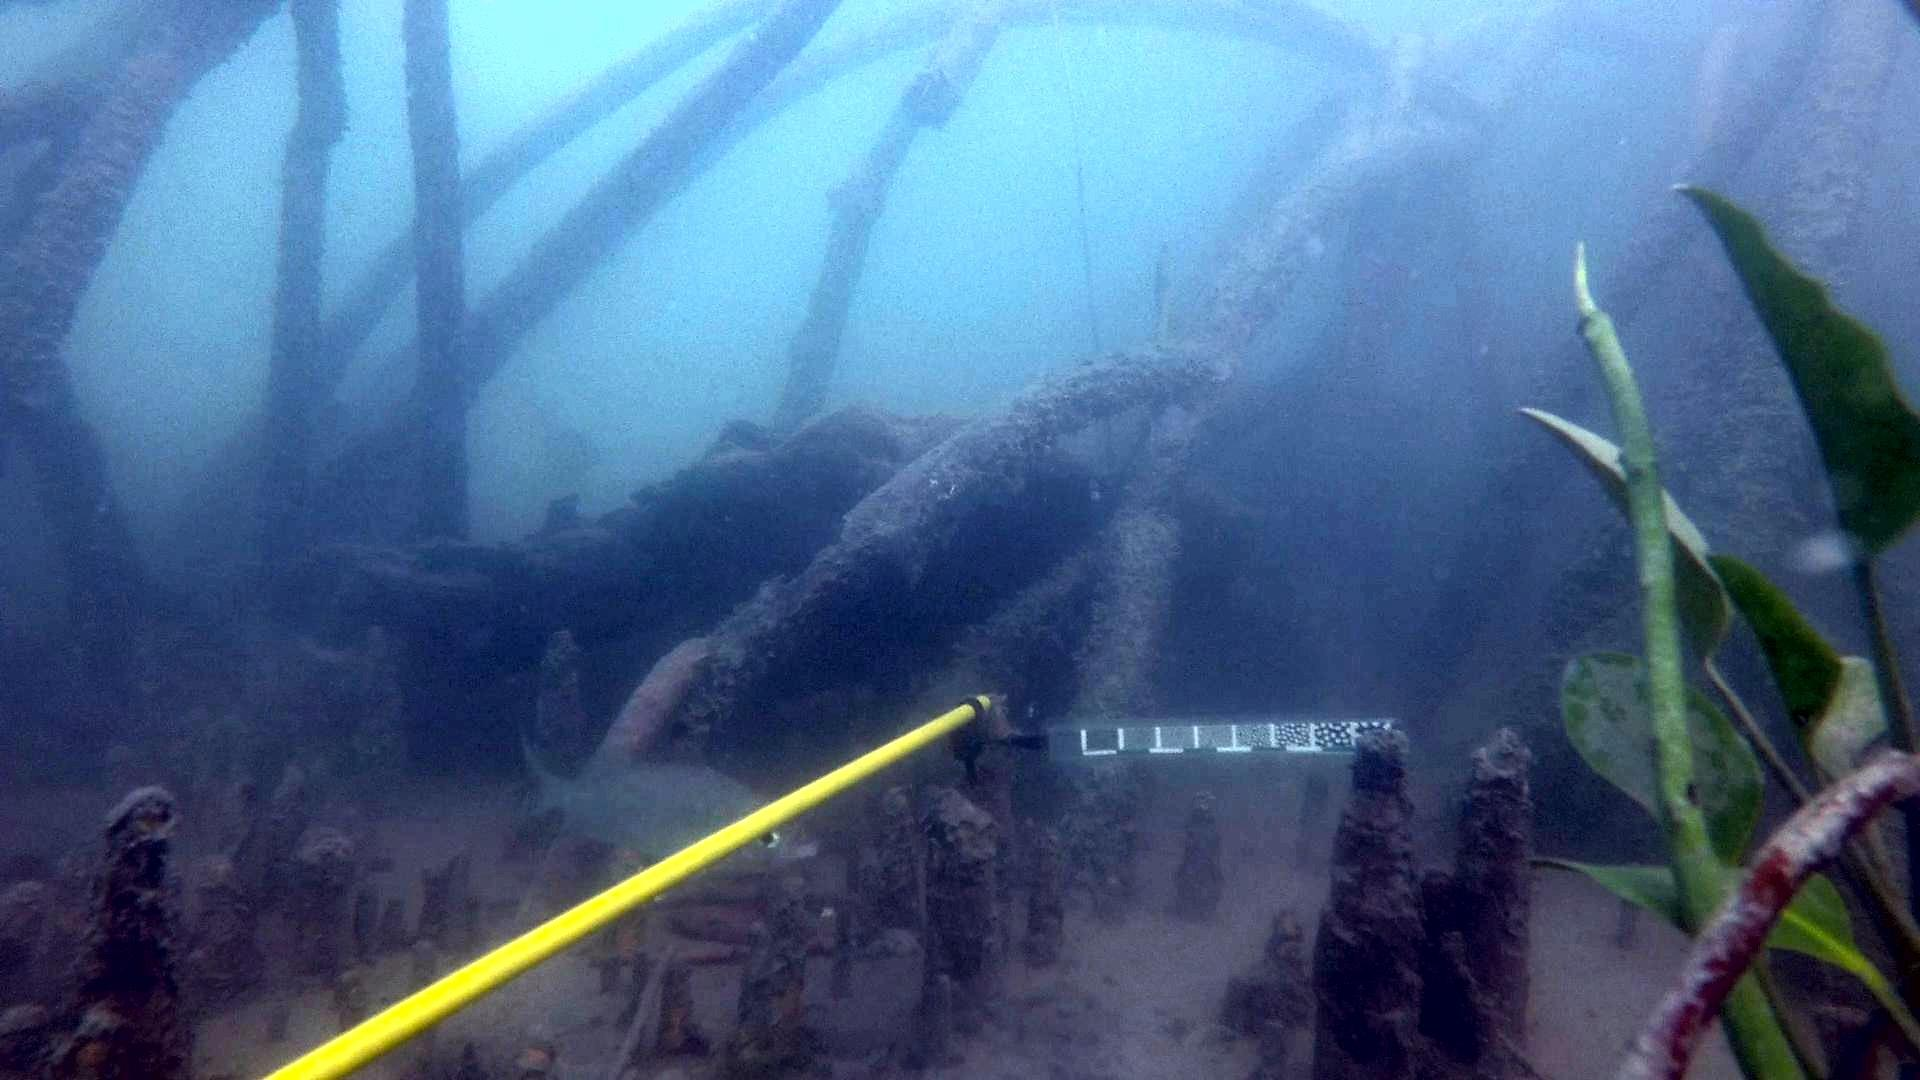gerres: (498, 708, 820, 877)
